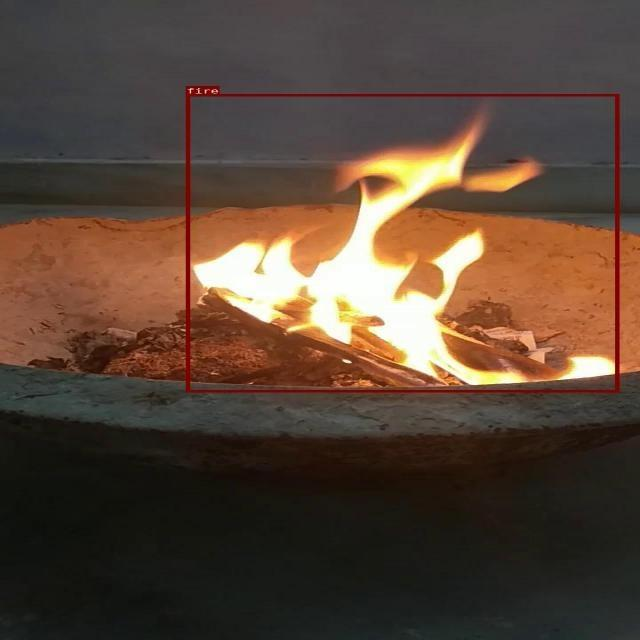fire: (185, 94, 619, 392)
